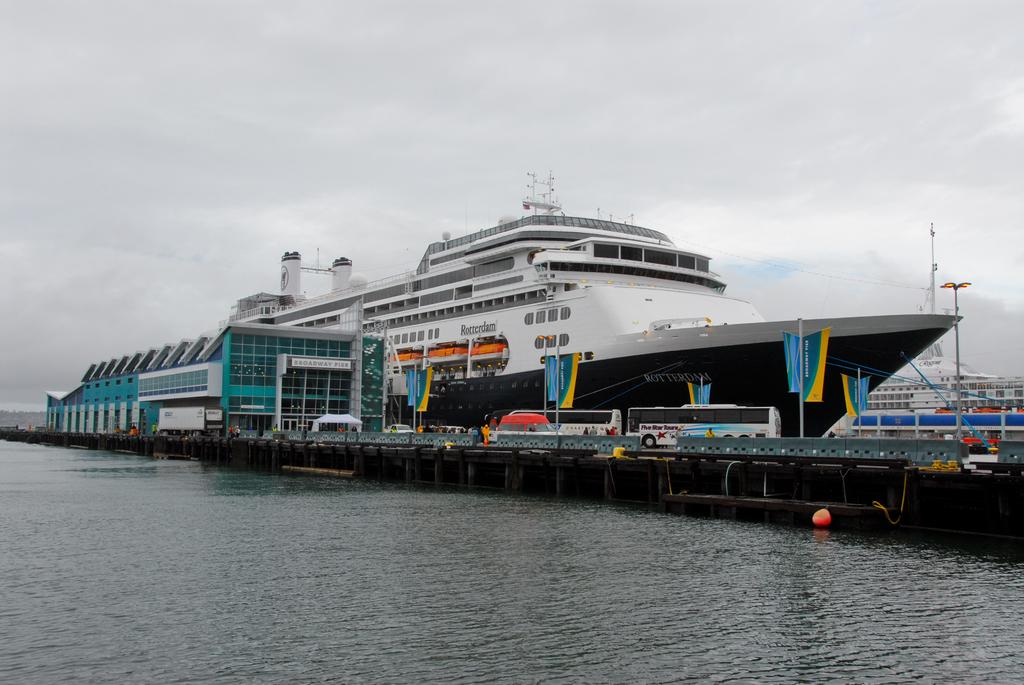PassengerShip: (221, 164, 983, 432)
